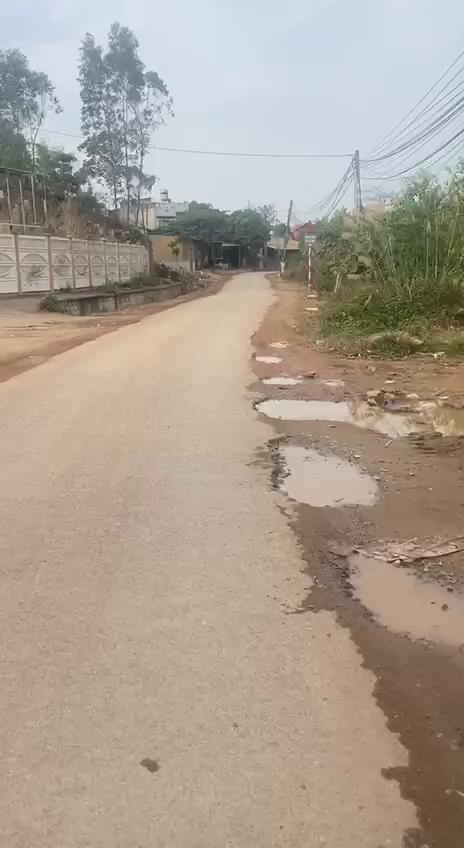pothole: (326, 526, 464, 652), (251, 382, 424, 447), (264, 434, 377, 516)
